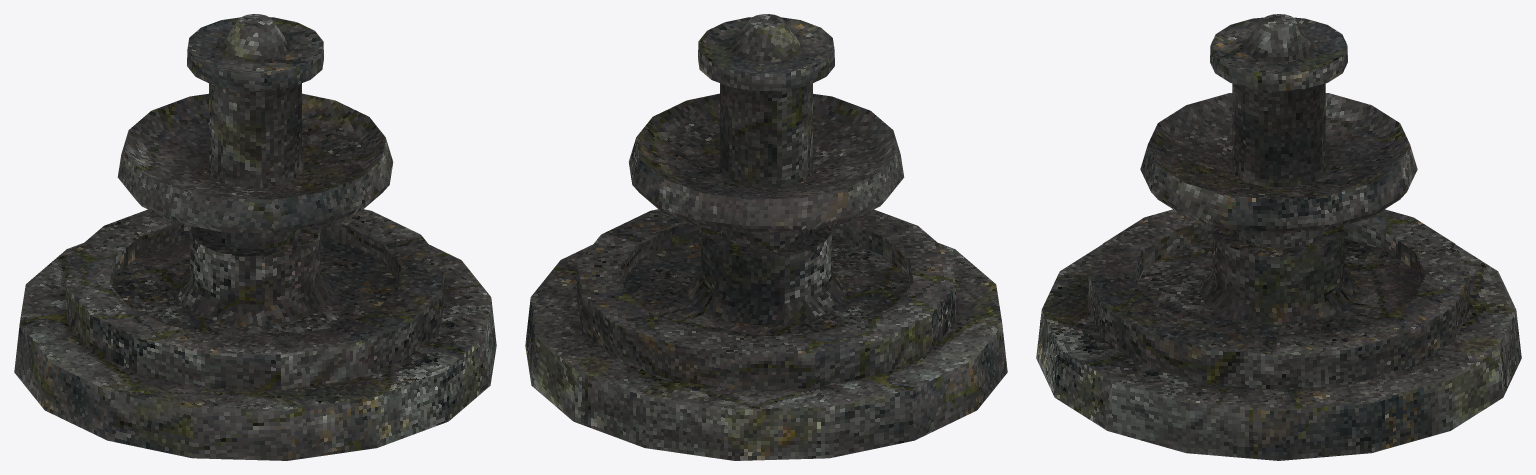
File: Fountain_1.gltf
3 renders of one model, left to right at view 1: azimuth 30°, elevation 25°; view 2: azimuth 150°, elevation 25°; view 3: azimuth 270°, elevation 25°, orthographic.
Visible parts, largest first — view 1: Fountain_1; view 2: Fountain_1; view 3: Fountain_1.
Part boxes in pixels (x1=…): Fountain_1: x1=14, y1=14, x2=496, y2=460; Fountain_1: x1=525, y1=14, x2=1007, y2=460; Fountain_1: x1=1036, y1=14, x2=1521, y2=460.
Bounding box in the file's own units: 7.02 × 5.38 × 7.02.
Materials: 1 (1 with a texture image).
